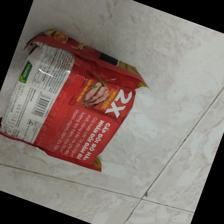3mien: (1, 27, 149, 174)
